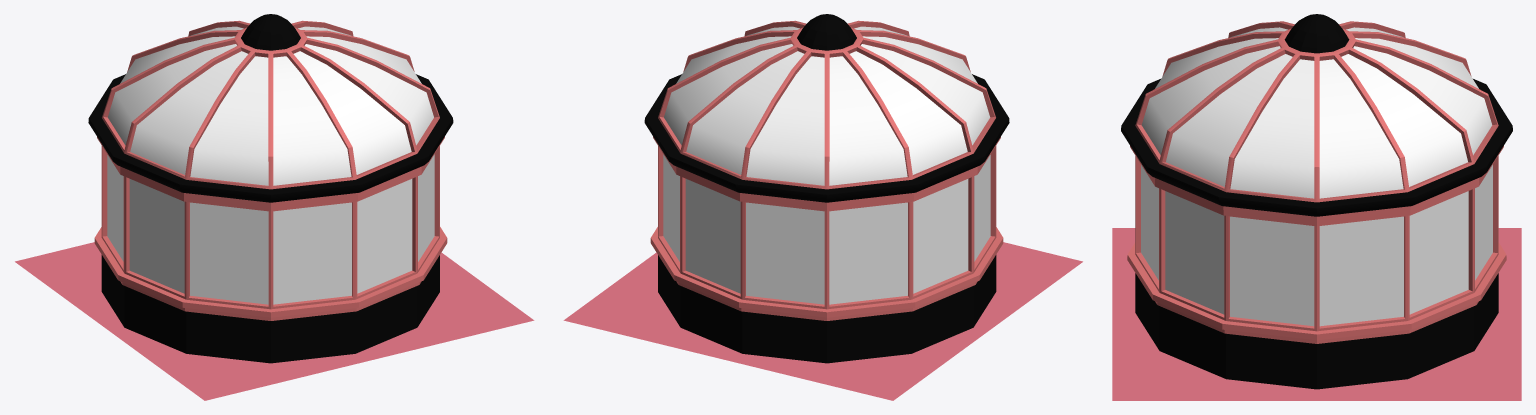
File: greenhouse_pink.fbx
3 renders of one model, left to right at view 1: azimuth 30°, elevation 25°; view 2: azimuth 150°, elevation 25°; view 3: azimuth 270°, elevation 25°, orthographic. The views are drawn at different scales.
Parts seen in each view (by area): view 1: greenhouse, ten_ten; view 2: greenhouse, ten_ten; view 3: greenhouse, ten_ten.
Part boxes in pixels (x1,y1,x2,y2): greenhouse: [88, 14, 453, 363]; ten_ten: [15, 242, 534, 400]; greenhouse: [644, 14, 1009, 363]; ten_ten: [563, 242, 1082, 400]; greenhouse: [1121, 14, 1512, 389]; ten_ten: [1112, 228, 1521, 400].
Bounding box in the file's own units: 10 × 8.04 × 10.
